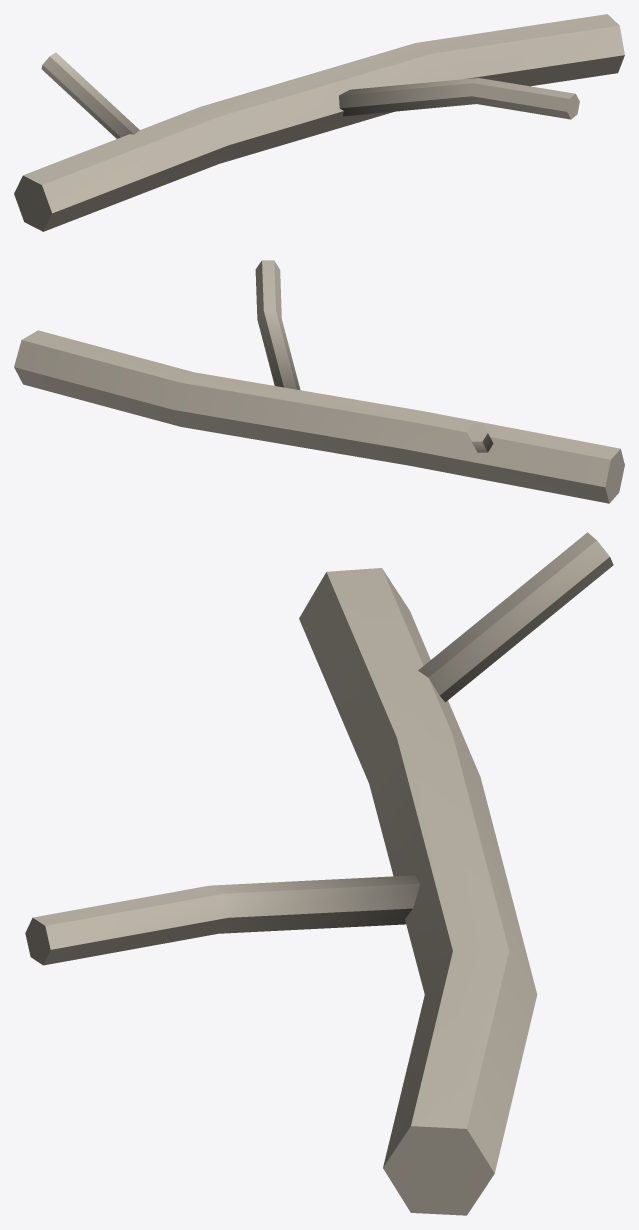
File: driftwood.glb
3 views of the same model, one above another, from view 1: azimuth 30°, elevation 25°; view 2: azimuth 150°, elevation 25°; view 3: azimuth 270°, elevation 25° (orthographic). The views are drawn at different scales.
Visible parts, largest first — view 1: boat_drift; view 2: boat_drift; view 3: boat_drift.
Boxes of the visible parts, x1,y1,x2,y2 form: boat_drift: (14,14,624,231); boat_drift: (14,260,624,503); boat_drift: (25,532,613,1215).
Size of the model in its own units: 1.87 by 0.3217 by 0.8367.
